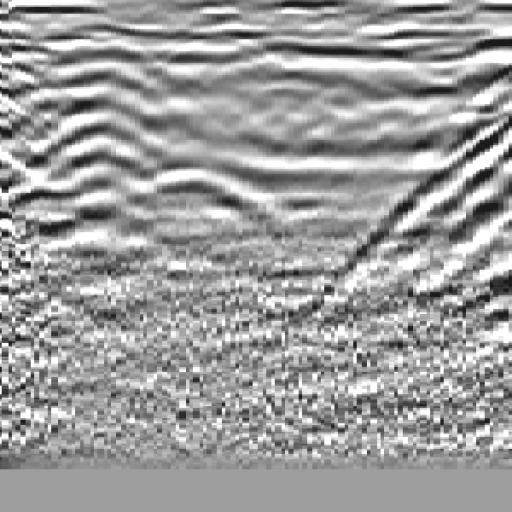metalic: (145, 29, 307, 297)
nonmetalic: (400, 58, 512, 307)
